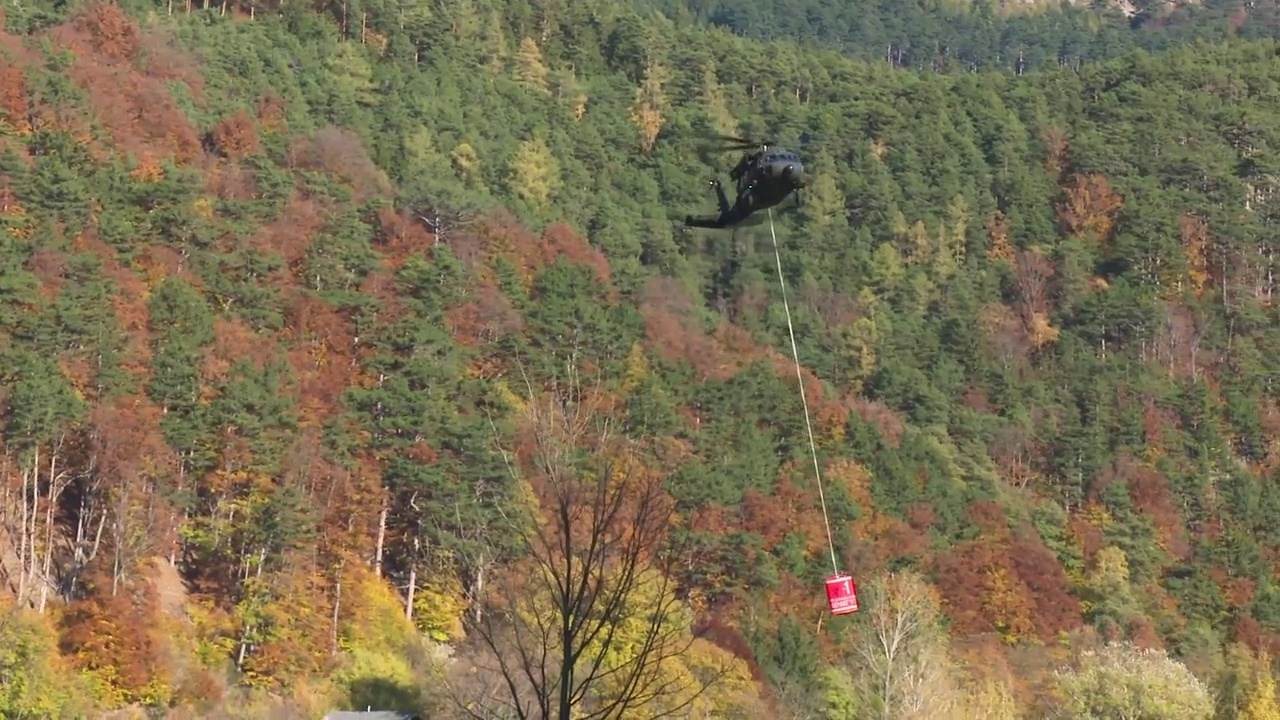heli: (683, 132, 805, 231)
